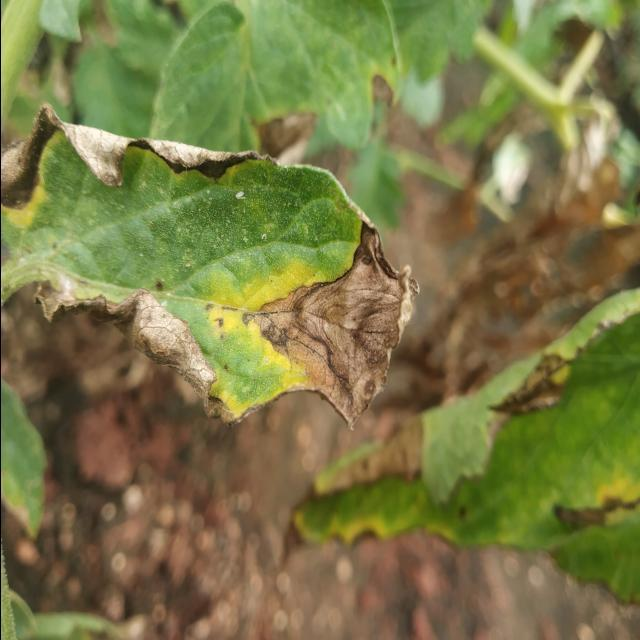Tomato mosaic virus leaf: (2, 97, 428, 436)
